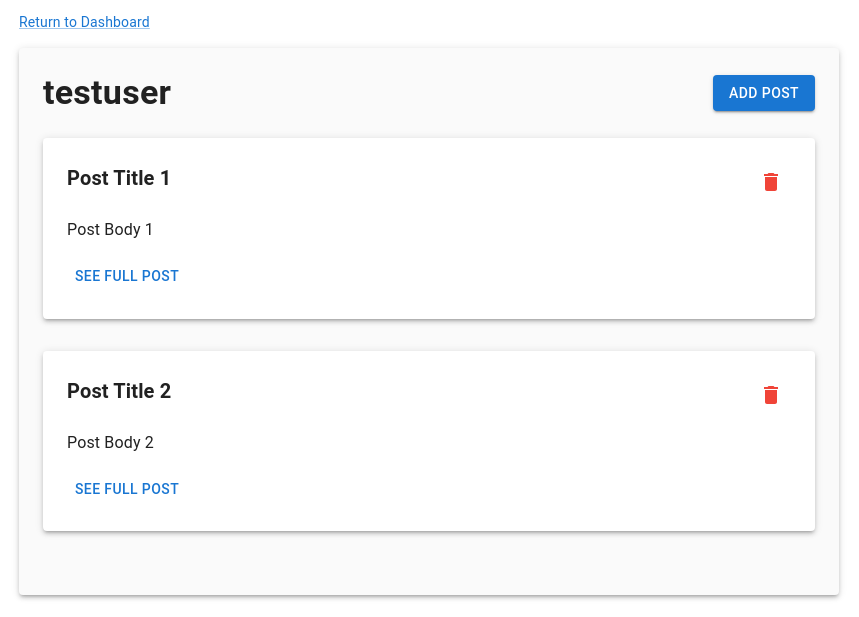
Test: UserPage › should delete user posts
Expected: the heading "Post Title 1" is shown, [67,162,171,194]
Click the button named "delete-1" at point(771, 182), box [751,162,791,202]
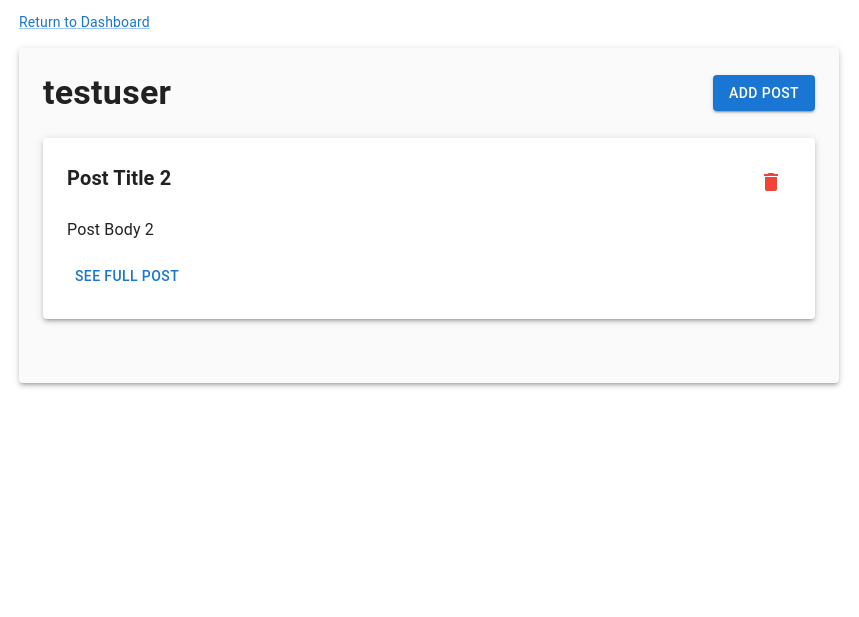
Expected: the heading "Post Title 2" is shown, [67,162,171,194]
Expected: the heading "Post Title 1" is gone
